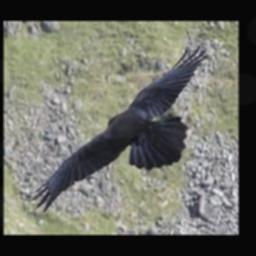Crow: (29, 46, 208, 213)
